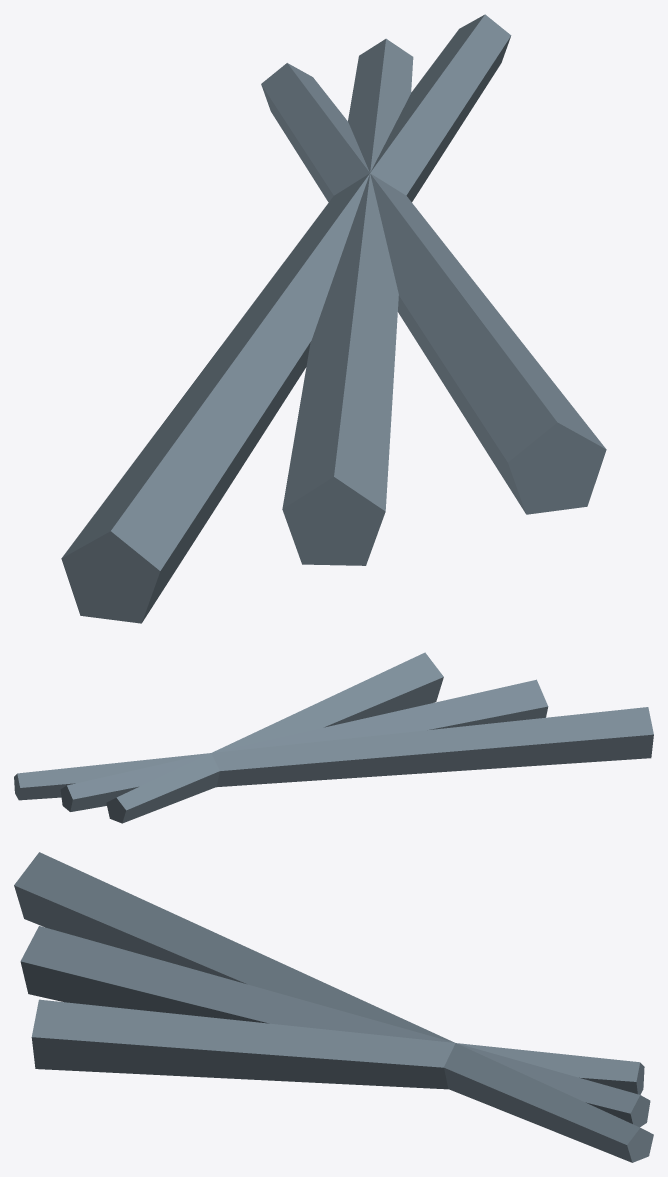
File: enfeite_raiz_chao.glb
3 views of the same model, one above another, from view 1: azimuth 30°, elevation 25°; view 2: azimuth 150°, elevation 25°; view 3: azimuth 270°, elevation 25° (orthographic). The views are drawn at different scales.
Visible parts, largest first — view 1: neve_enfeite_raiz_chao; view 2: neve_enfeite_raiz_chao; view 3: neve_enfeite_raiz_chao.
Boxes of the visible parts, x1,y1,x2,y2 form: neve_enfeite_raiz_chao: [61, 14, 606, 623]; neve_enfeite_raiz_chao: [14, 652, 653, 823]; neve_enfeite_raiz_chao: [14, 852, 653, 1162].
Size of the model in its own units: 0.3489 by 0.0344 by 0.3301.
